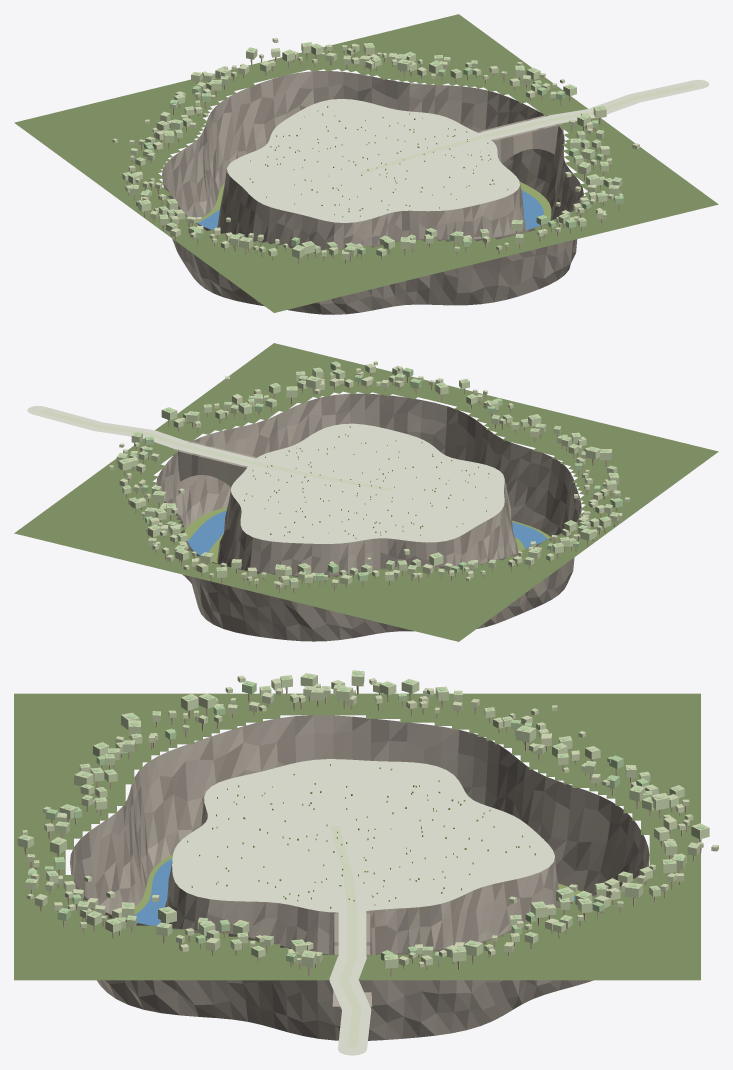
The model's file is meseta.glb.
3 views of the same model, one above another, from view 1: azimuth 30°, elevation 25°; view 2: azimuth 150°, elevation 25°; view 3: azimuth 270°, elevation 25° (orthographic). The views are drawn at different scales.
Visible parts, largest first — view 1: MesetaForestFloor, MesetaCanyon, MesetaMeadow, PuenteNatural, MesetaPath, SenderoMeadow, MesetaRio, PuenteMeadow; view 2: MesetaForestFloor, MesetaCanyon, MesetaMeadow, PuenteNatural, MesetaRio, MesetaPath, SenderoMeadow, PuenteMeadow; view 3: MesetaForestFloor, MesetaCanyon, MesetaMeadow, MesetaPath, SenderoMeadow, MesetaRio, PuenteMeadow, PuenteNatural.
Part boxes in pixels (left/top/right/bottom): MesetaForestFloor: left=14, top=14, right=718, bottom=312; MesetaCanyon: left=162, top=71, right=583, bottom=314; MesetaMeadow: left=227, top=99, right=519, bottom=222; PuenteNatural: left=477, top=114, right=564, bottom=163; MesetaPath: left=358, top=84, right=696, bottom=174; SenderoMeadow: left=546, top=79, right=709, bottom=123; MesetaRio: left=197, top=190, right=544, bottom=230; PuenteMeadow: left=473, top=115, right=564, bottom=141; MesetaForestFloor: left=14, top=343, right=718, bottom=641; MesetaCanyon: left=156, top=393, right=581, bottom=641; MesetaMeadow: left=231, top=423, right=504, bottom=543; PuenteNatural: left=173, top=440, right=257, bottom=486; MesetaRio: left=187, top=510, right=547, bottom=555; MesetaPath: left=40, top=410, right=391, bottom=490; SenderoMeadow: left=27, top=405, right=188, bottom=449; PuenteMeadow: left=172, top=441, right=264, bottom=466; MesetaForestFloor: left=14, top=693, right=700, bottom=980; MesetaCanyon: left=70, top=715, right=649, bottom=1040; MesetaMeadow: left=172, top=759, right=554, bottom=912; MesetaPath: left=330, top=826, right=361, bottom=1047; SenderoMeadow: left=329, top=955, right=371, bottom=1055; MesetaRio: left=134, top=858, right=575, bottom=925; PuenteMeadow: left=338, top=905, right=366, bottom=962; PuenteNatural: left=332, top=910, right=372, bottom=1006.
Size of the model in its own units: 201 by 29.83 by 164.
